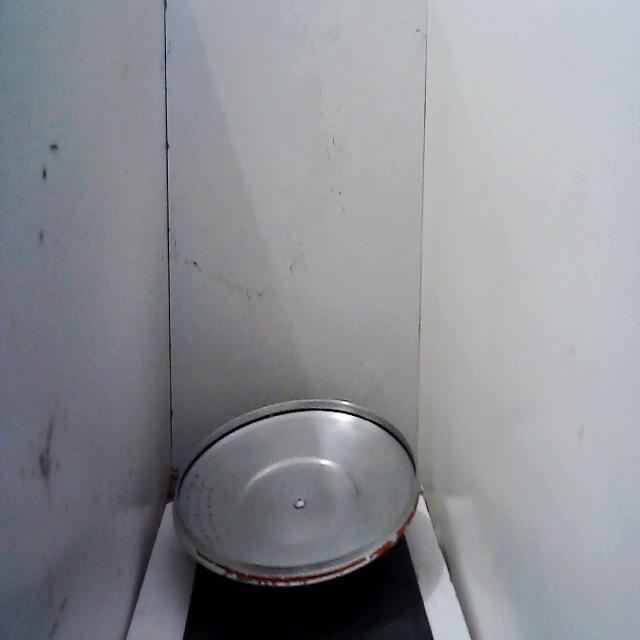metal: (168, 388, 426, 602)
